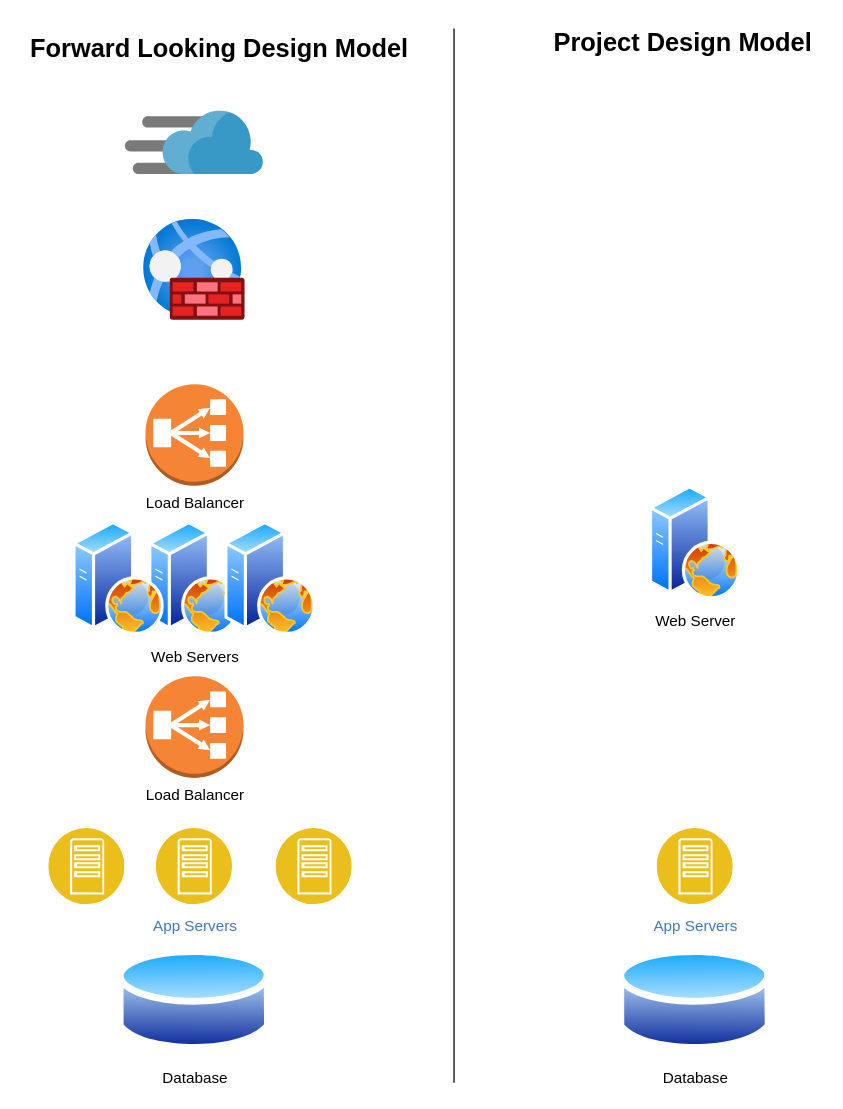
The diagram is 843 pixels wide and 1109 high, and some of its shapes have lost their labels. The centre of each missing label's shape, as x and y in pixels:
"CDN (Content Delivery Network)" belongs at (194,142).
"WAF (Web Application Firewall)" belongs at (194,269).
